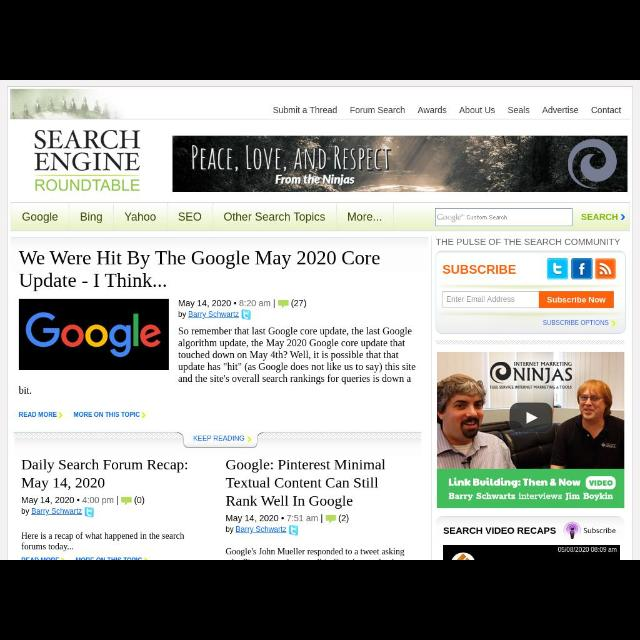icon: (620, 214, 626, 220), (611, 320, 615, 326), (141, 412, 145, 418), (59, 412, 63, 418), (247, 436, 251, 442)
iframe: (438, 352, 624, 506), (434, 516, 620, 558)
image: (9, 122, 634, 202), (19, 300, 169, 370), (548, 259, 568, 279), (572, 259, 592, 279), (596, 259, 616, 279), (278, 300, 290, 308), (121, 497, 133, 505), (85, 507, 94, 517), (242, 310, 250, 320), (290, 525, 298, 535), (326, 516, 336, 522)
input: (436, 208, 572, 226), (443, 292, 539, 306)
link: (236, 526, 288, 534), (32, 508, 82, 516), (188, 312, 240, 318)
multitab: (6, 86, 632, 120), (11, 202, 633, 230)
text: (19, 251, 380, 291), (178, 327, 416, 385), (227, 459, 386, 508), (22, 459, 188, 491), (22, 532, 185, 552), (226, 548, 404, 558), (224, 212, 326, 224), (436, 239, 620, 245), (444, 264, 516, 274), (438, 213, 508, 223), (273, 106, 337, 114), (178, 311, 240, 319), (226, 526, 288, 534), (22, 508, 82, 516), (350, 106, 406, 114), (22, 212, 58, 224), (179, 300, 231, 308), (22, 497, 74, 505), (227, 515, 279, 523), (447, 296, 515, 302), (74, 412, 140, 418), (544, 320, 608, 326), (548, 297, 606, 303), (348, 212, 382, 222), (124, 212, 156, 222), (459, 106, 495, 114), (543, 106, 579, 114), (80, 212, 102, 224), (590, 106, 622, 114), (82, 497, 114, 505), (582, 213, 618, 220), (418, 106, 448, 114), (178, 212, 202, 222), (288, 514, 318, 522), (19, 412, 56, 418), (193, 436, 244, 440), (240, 300, 270, 306), (508, 106, 530, 114), (292, 299, 306, 309), (18, 386, 32, 394), (134, 496, 144, 506), (339, 514, 349, 524)
textbutton: (214, 204, 336, 230), (11, 203, 69, 230), (337, 203, 393, 230), (114, 204, 168, 230), (168, 203, 212, 230), (540, 292, 614, 308), (69, 204, 113, 230)
